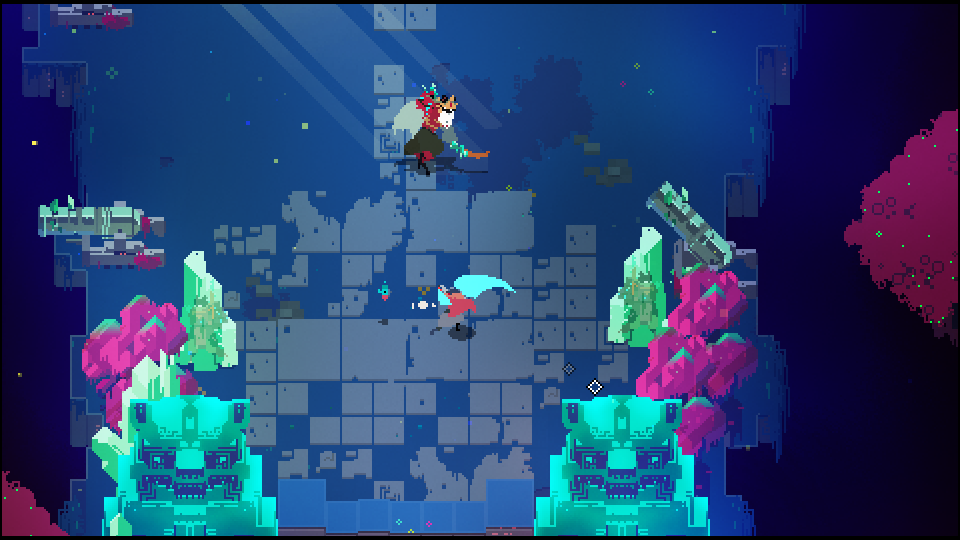hanged_man: (391, 79, 490, 170)
player: (434, 272, 516, 340)
